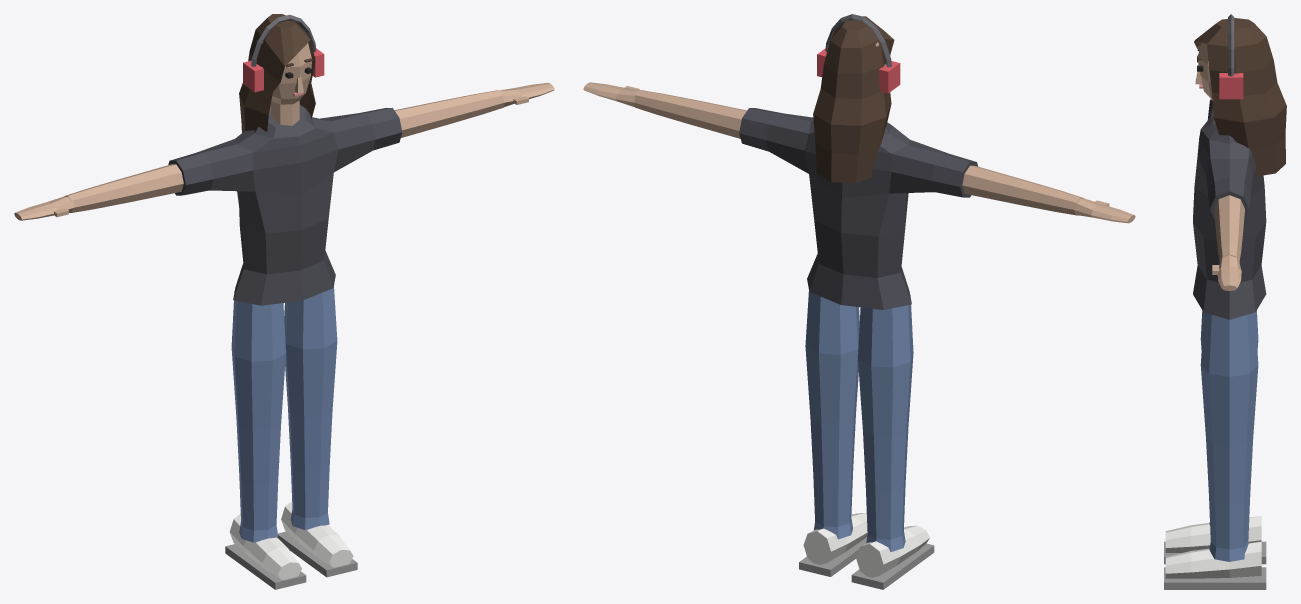
Rendered from Music.glb.
3 renders of one model, left to right at view 1: azimuth 30°, elevation 25°; view 2: azimuth 150°, elevation 25°; view 3: azimuth 270°, elevation 25°, orthographic. The views are drawn at different scales.
Parts seen in each view (by area): view 1: Music_Character; view 2: Music_Character; view 3: Music_Character.
Boxes of the visible parts, x1,y1,x2,y2 form: Music_Character: (14, 14, 554, 589); Music_Character: (583, 14, 1135, 589); Music_Character: (1164, 14, 1286, 589).
Size of the model in its own units: 1.89 by 1.83 by 0.369.
